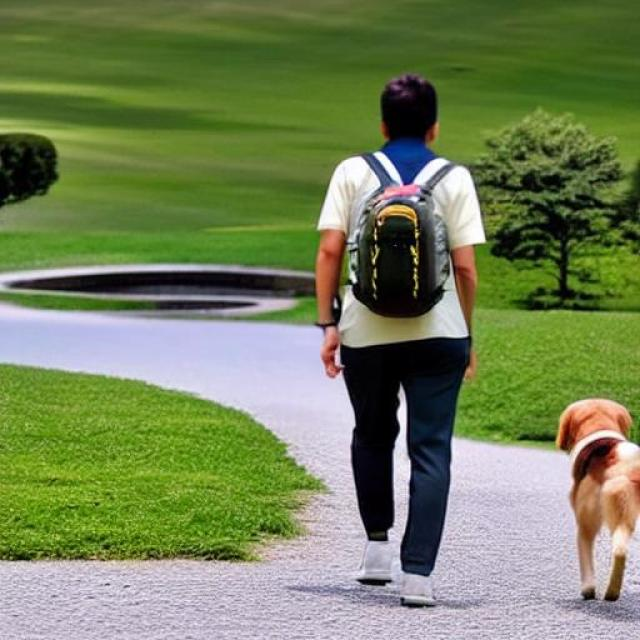Unleashed_Dog: (340, 350, 640, 604)
